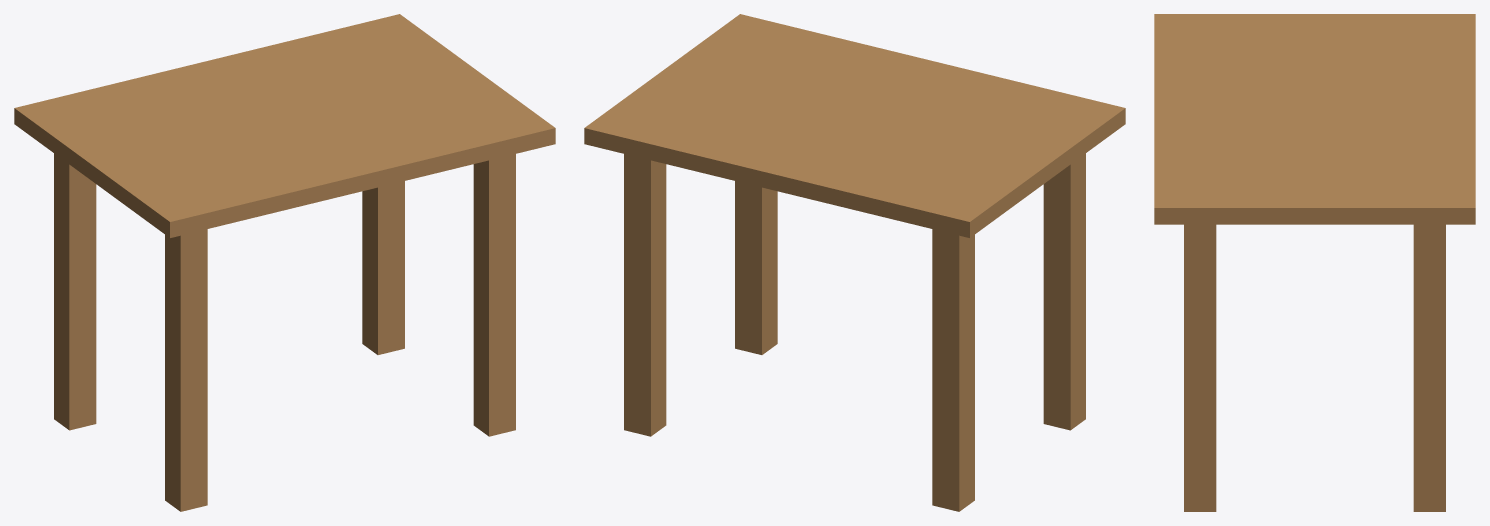
3 views of the same model, side by side, from view 1: azimuth 30°, elevation 25°; view 2: azimuth 150°, elevation 25°; view 3: azimuth 270°, elevation 25° (orthographic). The views are drawn at different scales.
Visible parts, largest first — view 1: mesa_open_s0; view 2: mesa_open_s0; view 3: mesa_open_s0.
Part boxes in pixels (bbox=[...]): mesa_open_s0: bbox=[14, 14, 555, 511]; mesa_open_s0: bbox=[584, 14, 1125, 511]; mesa_open_s0: bbox=[1154, 14, 1475, 511].
Size of the model in its own units: 1 by 0.7 by 0.76.
